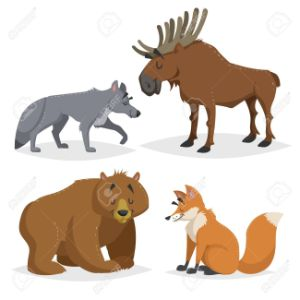bear: (18, 165, 153, 275)
fox: (163, 181, 286, 276)
wolf: (13, 75, 142, 155)
